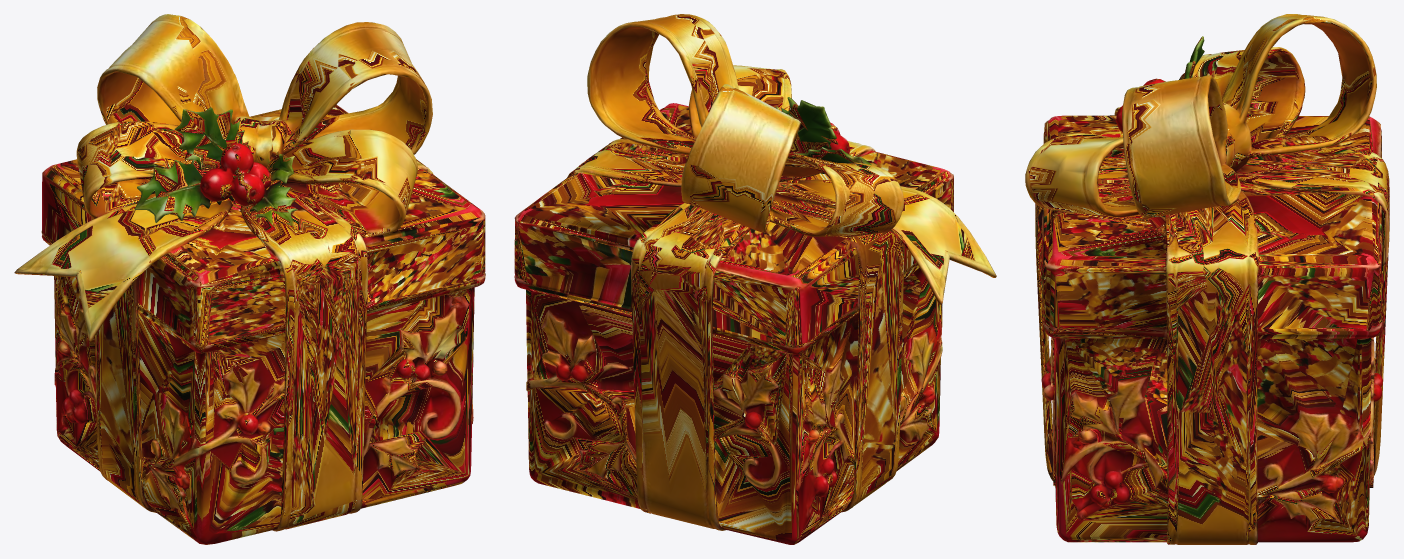
File: gift.glb
3 views of the same model, side by side, from view 1: azimuth 30°, elevation 25°; view 2: azimuth 150°, elevation 25°; view 3: azimuth 270°, elevation 25° (orthographic). The views are drawn at different scales.
Parts seen in each view (by area): view 1: tripo_node_96e9b338-b479-4965-9676-951d4d7af299; view 2: tripo_node_96e9b338-b479-4965-9676-951d4d7af299; view 3: tripo_node_96e9b338-b479-4965-9676-951d4d7af299.
Boxes of the visible parts, x1,y1,x2,y2 form: tripo_node_96e9b338-b479-4965-9676-951d4d7af299: (14, 14, 485, 544); tripo_node_96e9b338-b479-4965-9676-951d4d7af299: (514, 14, 996, 544); tripo_node_96e9b338-b479-4965-9676-951d4d7af299: (1025, 14, 1389, 544).
Size of the model in its own units: 0.9167 by 0.9787 by 0.7231.
1 material, 1 textured.
